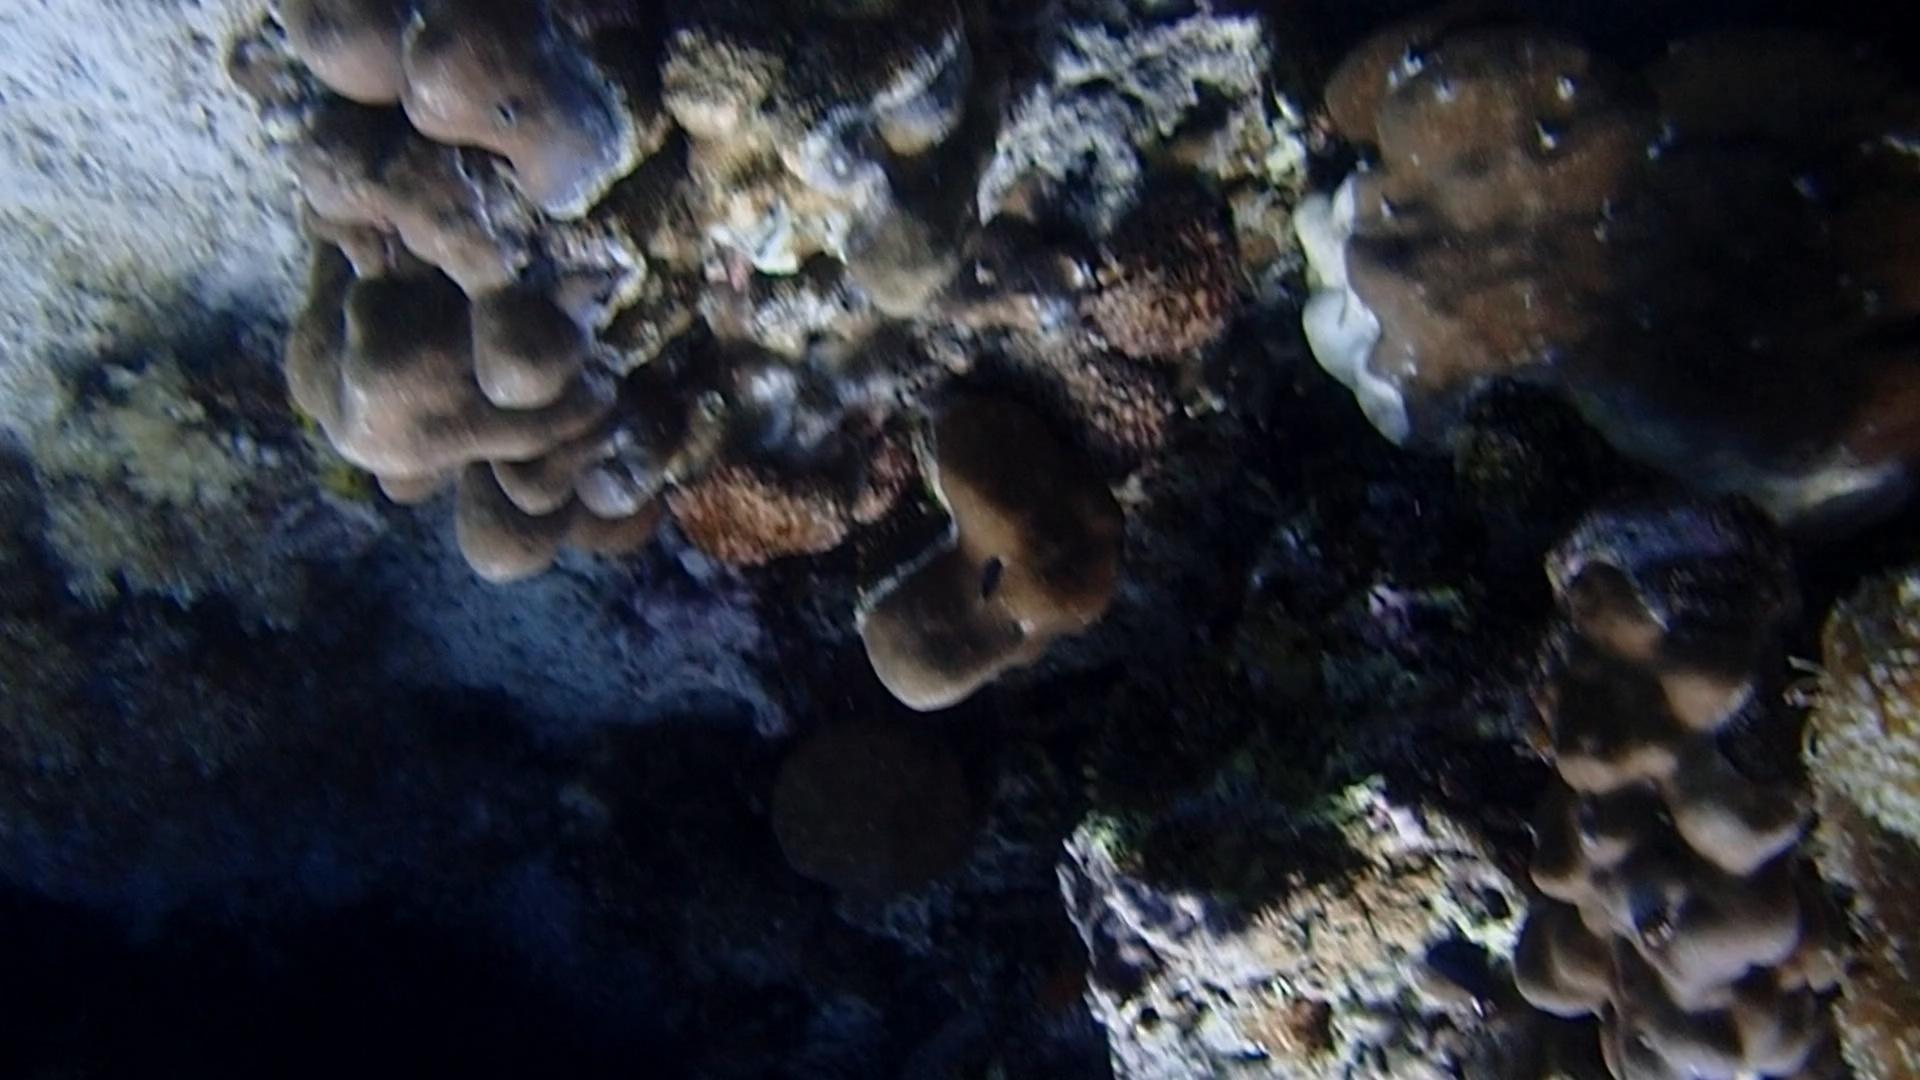Dark Fish: (1416, 923, 1534, 1018)
Yellow Tail: (971, 547, 1018, 620)
